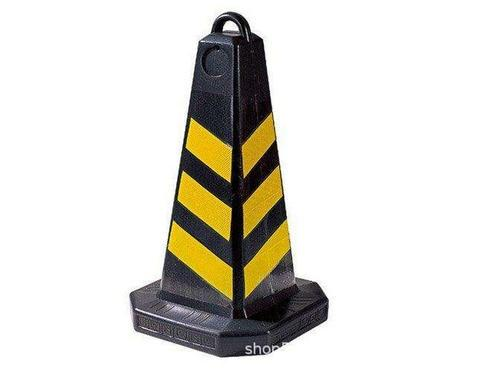cone_barrel: (141, 23, 319, 335)
